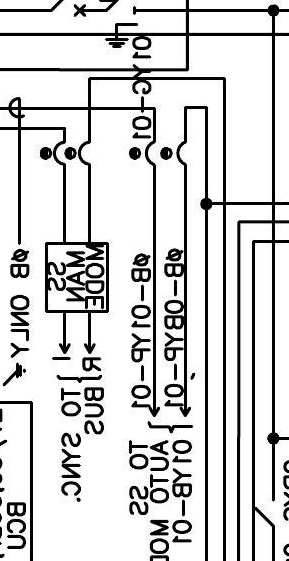115_ds: (255, 497, 276, 527)
ss_man_mode: (44, 241, 110, 314)
